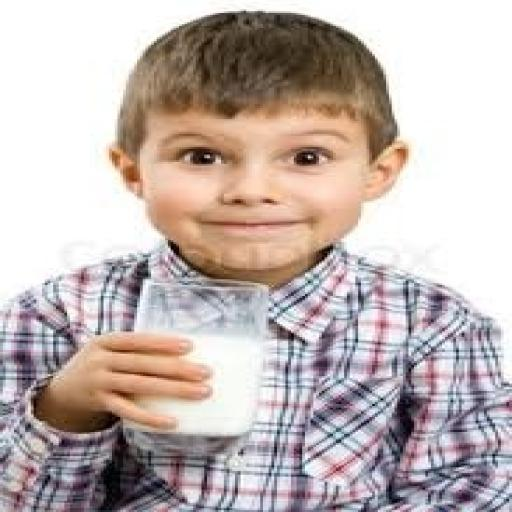drinking: (123, 278, 271, 438)
